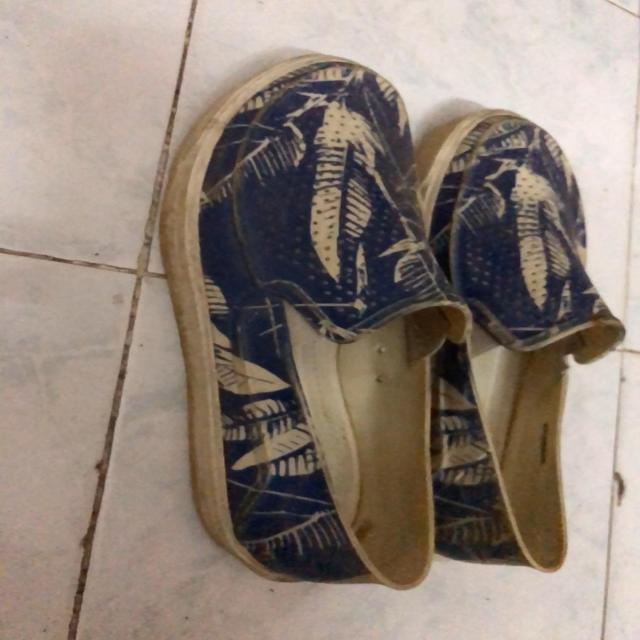shoe: (159, 54, 461, 594), (417, 107, 624, 573)
